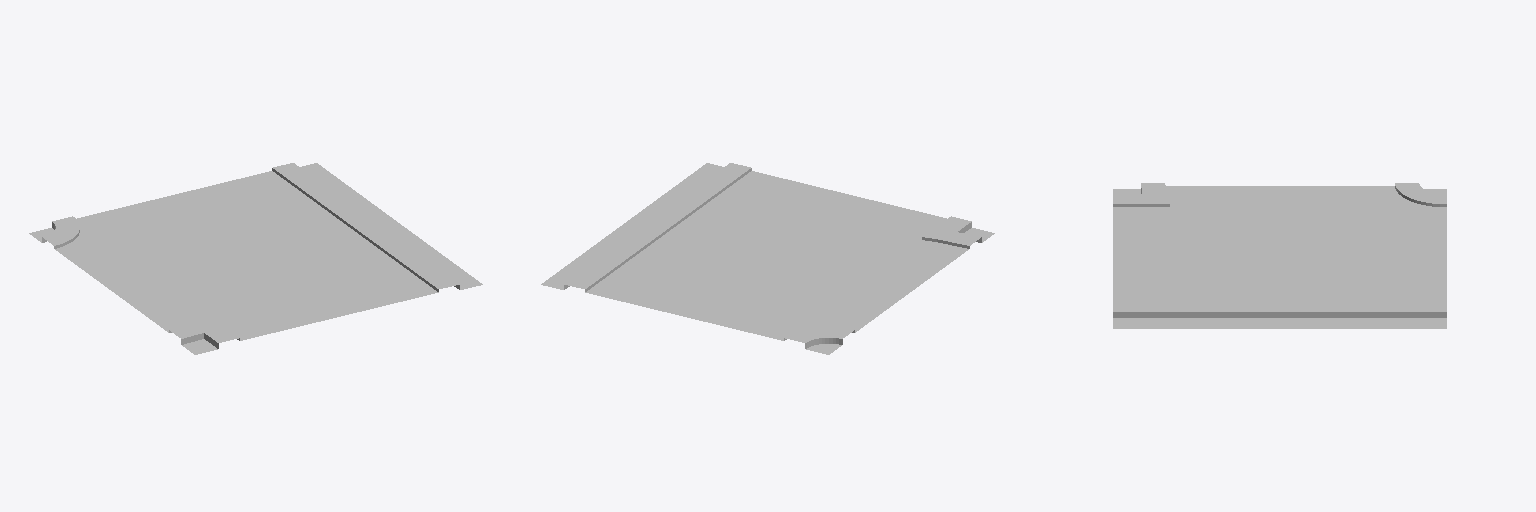
The model's file is roadSplitSmall.obj.
3 renders of one model, left to right at view 1: azimuth 30°, elevation 25°; view 2: azimuth 150°, elevation 25°; view 3: azimuth 270°, elevation 25°, orthographic.
Visible parts, largest first — view 1: roadSplitSmall; view 2: roadSplitSmall; view 3: roadSplitSmall.
Boxes of the visible parts, <box> form: roadSplitSmall: <box>29,163,482,354</box>; roadSplitSmall: <box>541,163,994,354</box>; roadSplitSmall: <box>1113,183,1446,328</box>.
Size of the model in its own units: 1 by 0.02 by 1.